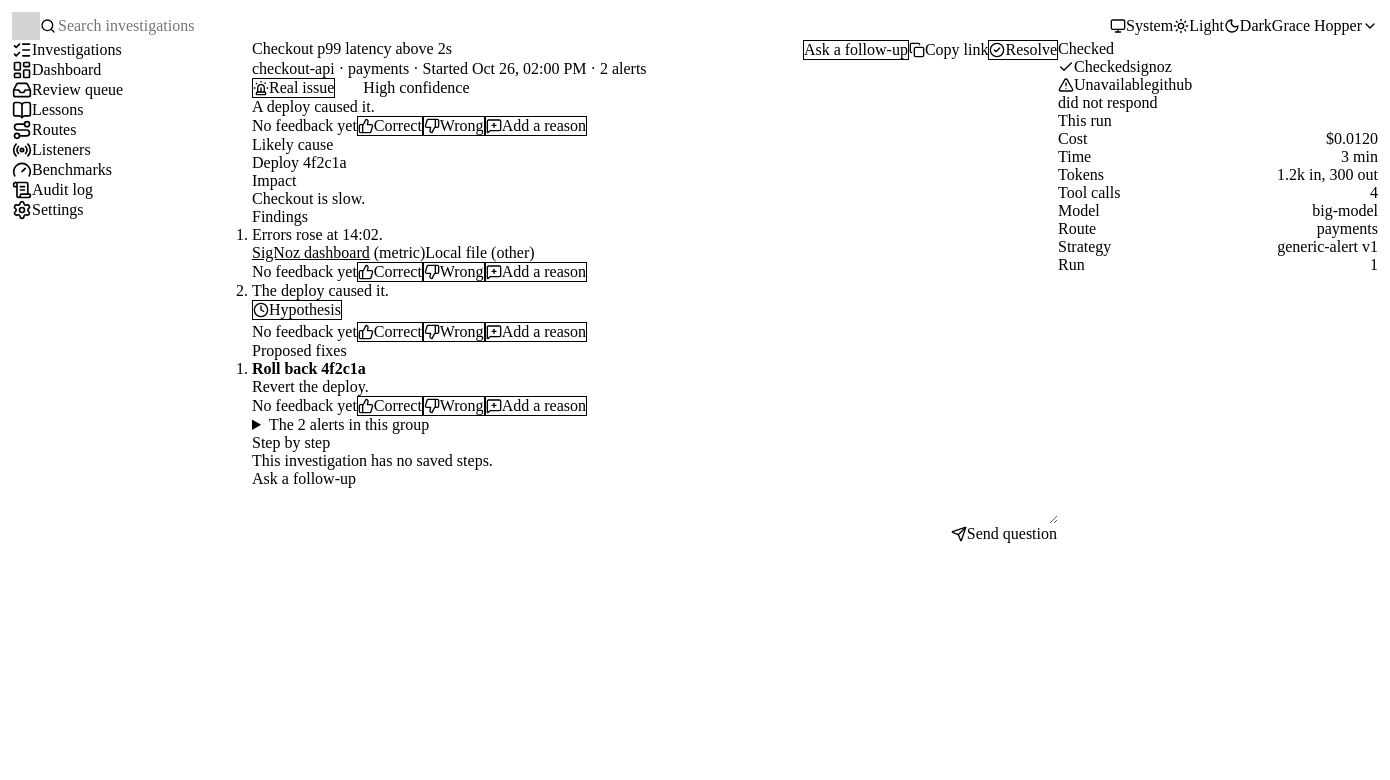
Test: the investigation page › the follow-up box › shows the refusal for a triage-only result in the API's words
Type "Why?" into the text box labelled "Ask a follow-up" at [655, 506], box [252,488,1058,524]
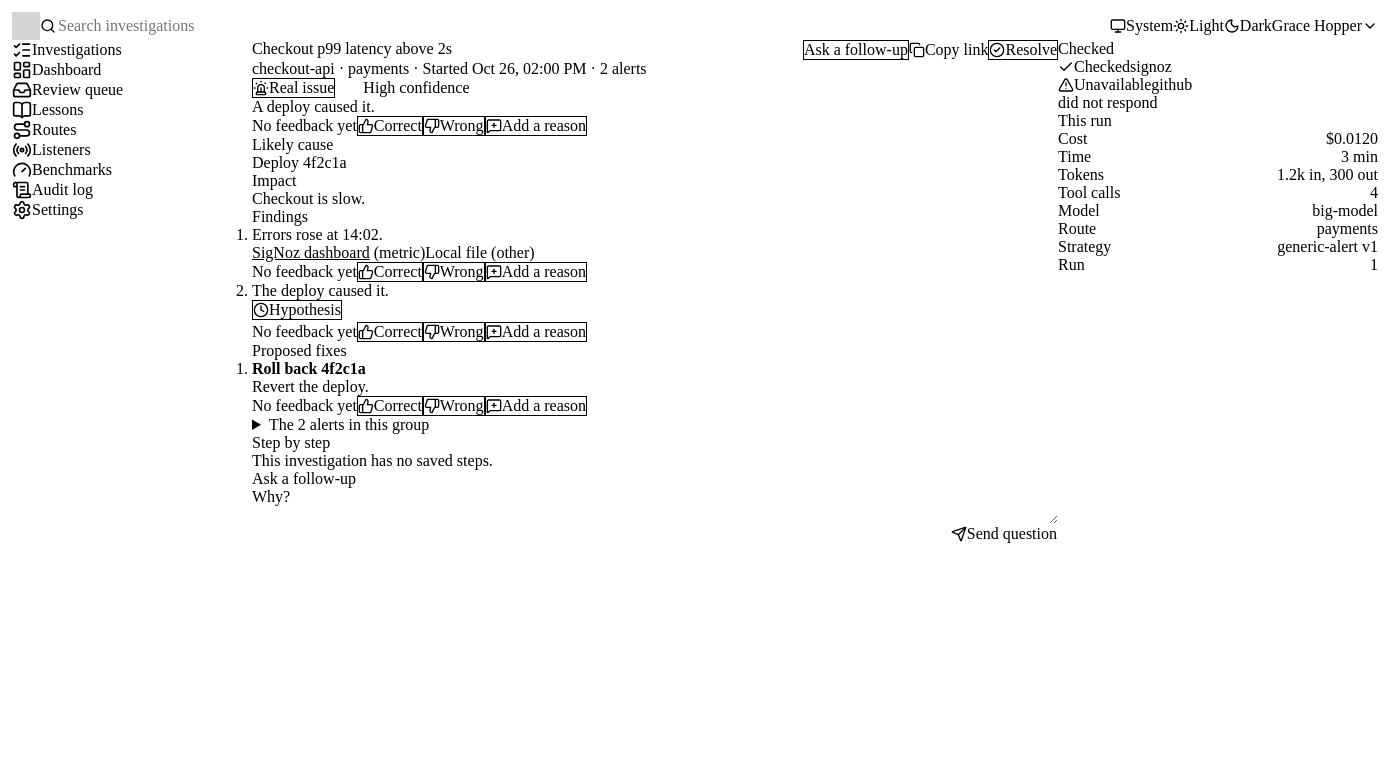
Click the button "Send question" at [1004, 534], box [950,524,1058,544]
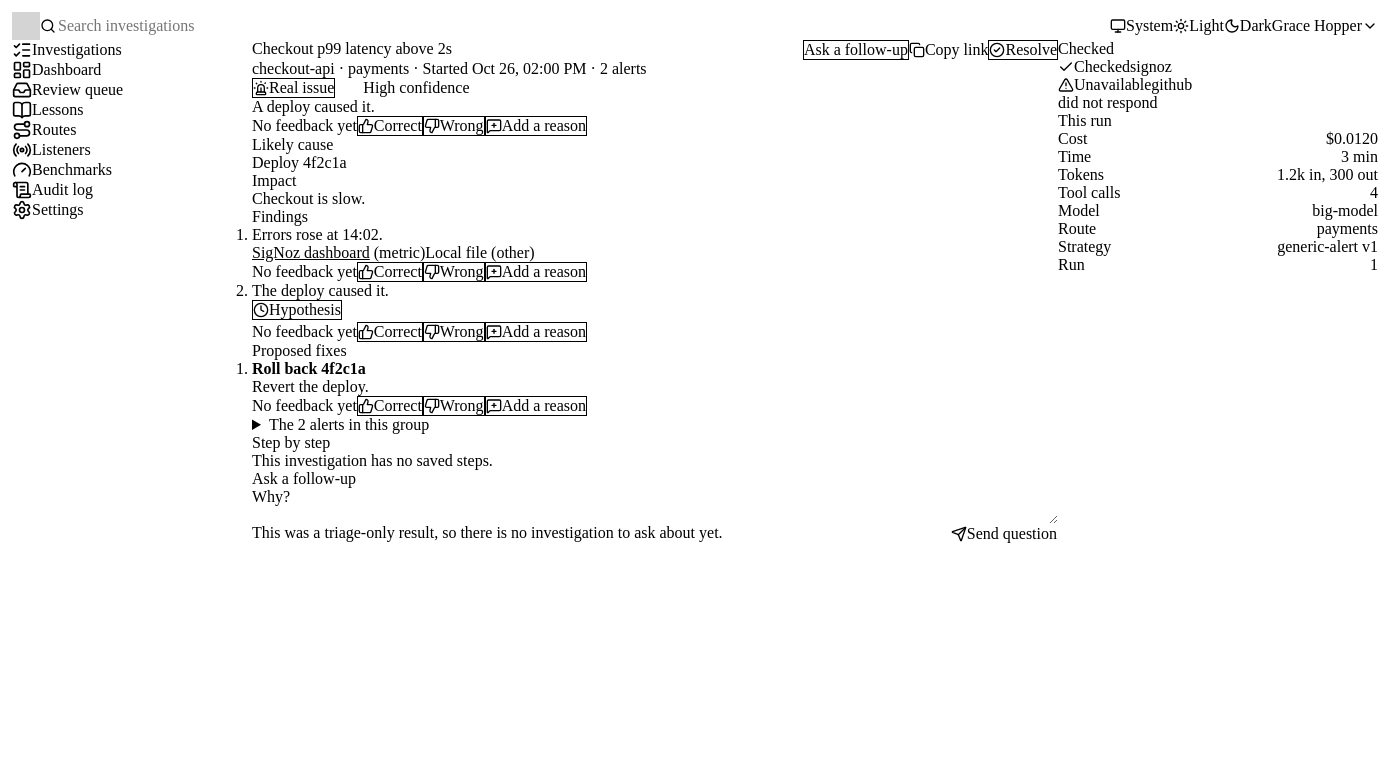
Check: the message reads "This was a triage-only result, so there is no investigation to ask about yet.", box [252,524,723,541]
